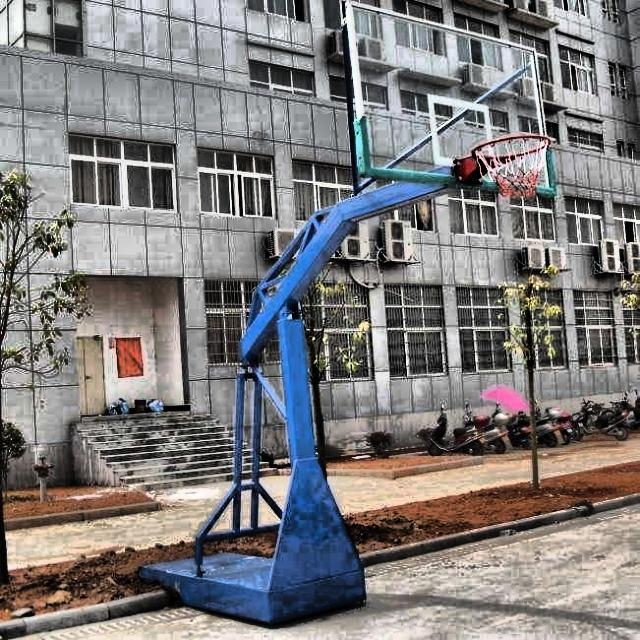rim: (474, 134, 550, 201)
